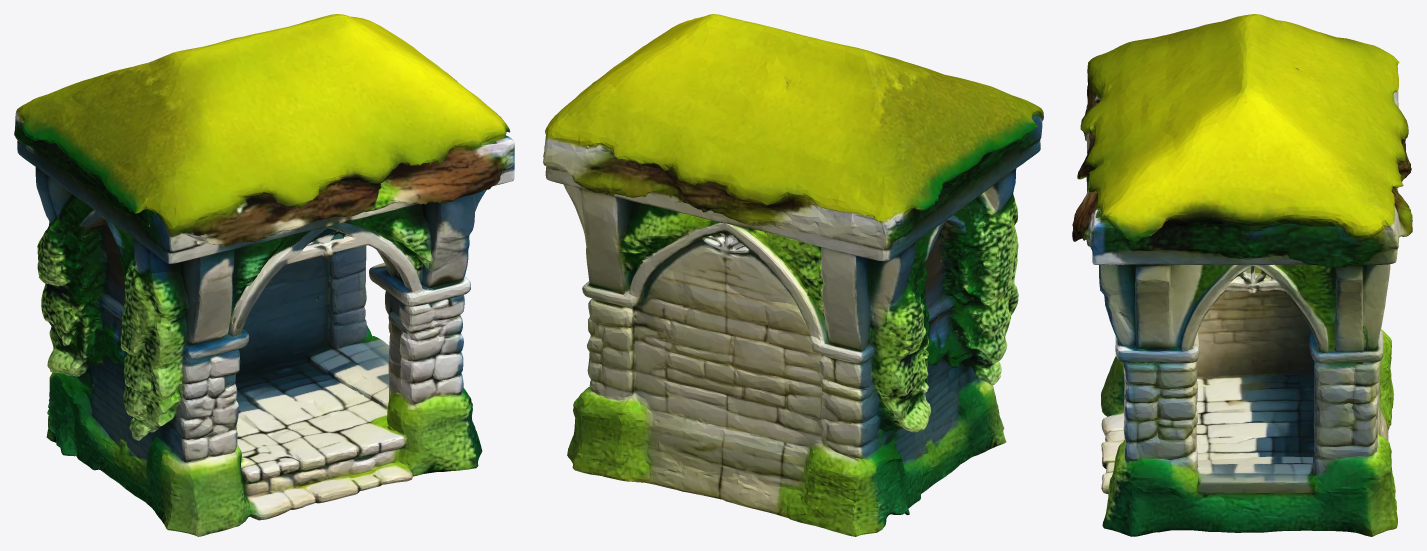
Rendered from landmark_sunken_temple.glb.
The picture shows the model from 3 angles, left to right: view 1: azimuth 30°, elevation 25°; view 2: azimuth 150°, elevation 25°; view 3: azimuth 270°, elevation 25°; orthographic projection.
Parts seen in each view (by area): view 1: geometry_0; view 2: geometry_0; view 3: geometry_0.
Part boxes in pixels (bbox=[...]): geometry_0: bbox=[14, 14, 514, 536]; geometry_0: bbox=[543, 14, 1043, 536]; geometry_0: bbox=[1072, 14, 1412, 536].
Bounding box in the file's own units: 0.9467 × 1 × 0.7525.
1 material, 1 textured.
